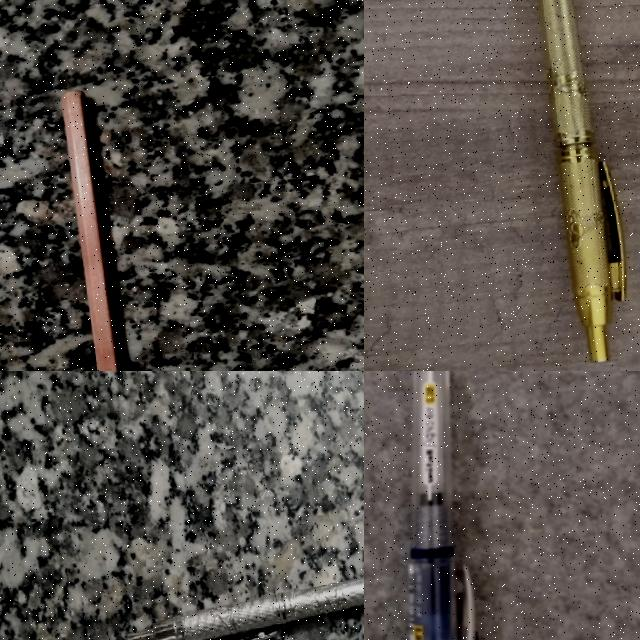pen: (408, 371, 478, 640)
pencil: (62, 92, 122, 370)
signature pen: (540, 0, 626, 361), (127, 578, 363, 639)
